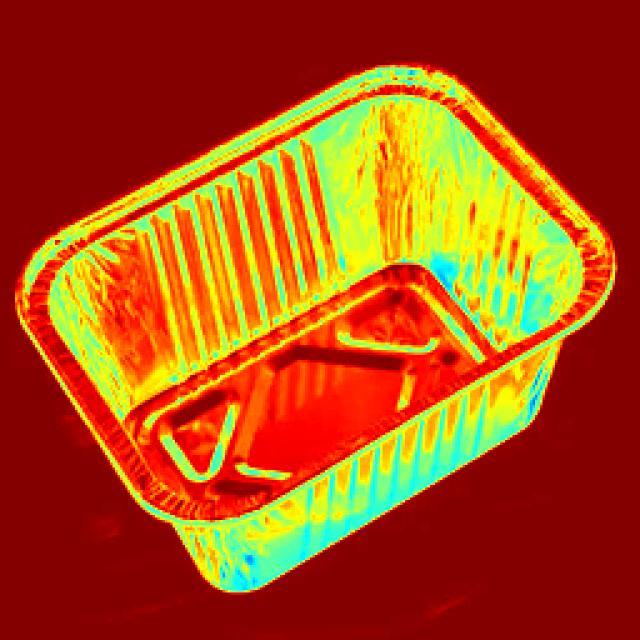Aluminium Food Cans: (25, 51, 597, 599)
